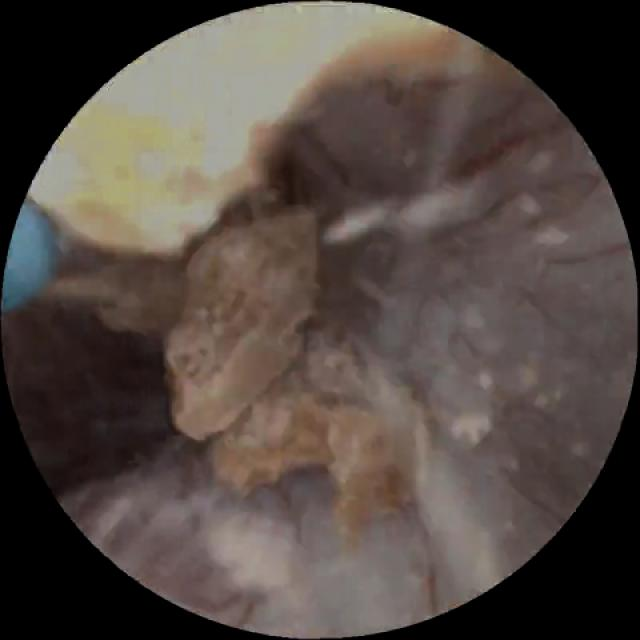fiber: (7, 207, 53, 303)
stone: (31, 11, 455, 254), (164, 214, 426, 543)
